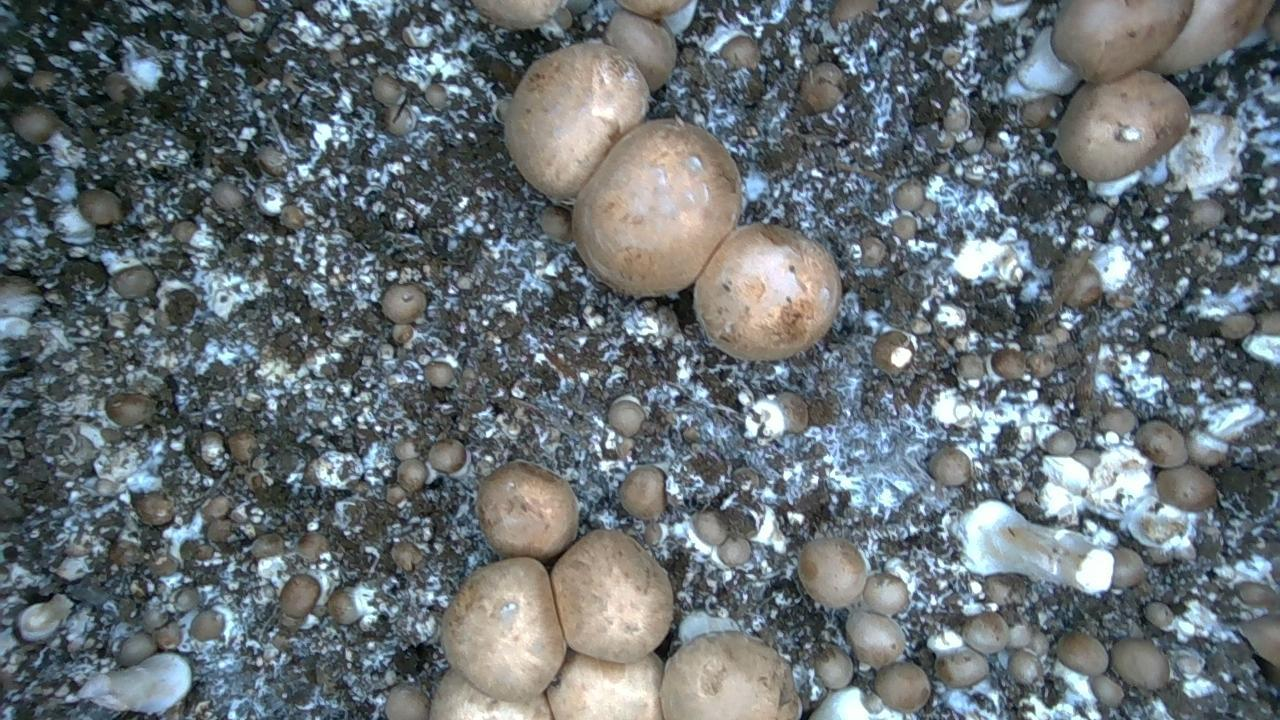BB: (572, 119, 741, 296), (505, 43, 649, 201), (694, 223, 841, 360), (442, 557, 565, 701), (550, 530, 673, 662), (1056, 71, 1190, 181), (661, 631, 801, 719), (1051, 0, 1192, 83), (476, 461, 578, 561), (1148, 0, 1273, 73), (546, 650, 663, 719), (429, 668, 552, 719), (604, 9, 676, 90), (798, 537, 866, 607), (846, 610, 904, 668), (1111, 638, 1169, 690), (1053, 250, 1102, 308), (874, 662, 930, 712), (1156, 465, 1216, 511), (472, 0, 562, 29), (620, 466, 666, 519), (1136, 420, 1187, 467), (1056, 632, 1108, 675), (935, 646, 988, 687), (800, 62, 844, 111), (1241, 615, 1279, 668), (677, 610, 738, 643), (962, 612, 1008, 654), (863, 573, 909, 615), (11, 105, 59, 144), (382, 283, 426, 323), (280, 574, 320, 618), (872, 330, 912, 374), (814, 645, 853, 689), (929, 446, 972, 485), (78, 188, 123, 225), (105, 393, 154, 426), (109, 266, 156, 299), (385, 684, 429, 719), (1186, 429, 1227, 466), (720, 35, 760, 70), (133, 492, 174, 526), (775, 392, 809, 433), (117, 632, 157, 666), (608, 400, 644, 437), (691, 509, 728, 545), (428, 438, 466, 473), (617, 0, 689, 18), (985, 574, 1026, 605), (1008, 649, 1043, 685), (830, 0, 878, 26), (1235, 581, 1279, 608), (540, 206, 572, 243), (328, 588, 360, 624), (165, 289, 196, 325), (1098, 407, 1137, 435), (1089, 674, 1123, 706), (190, 609, 225, 640), (717, 535, 751, 566), (1190, 199, 1224, 230), (1218, 312, 1255, 340), (992, 348, 1025, 379), (372, 74, 405, 105), (397, 458, 427, 491), (383, 104, 416, 134), (391, 541, 423, 571), (256, 146, 287, 176), (297, 531, 328, 561), (211, 181, 243, 210), (894, 180, 924, 210), (251, 533, 284, 559), (860, 236, 886, 267), (1045, 430, 1076, 455), (956, 353, 985, 379), (201, 495, 230, 520), (280, 204, 304, 229), (175, 587, 199, 611), (1256, 310, 1279, 335), (893, 215, 916, 239), (172, 221, 196, 242)
